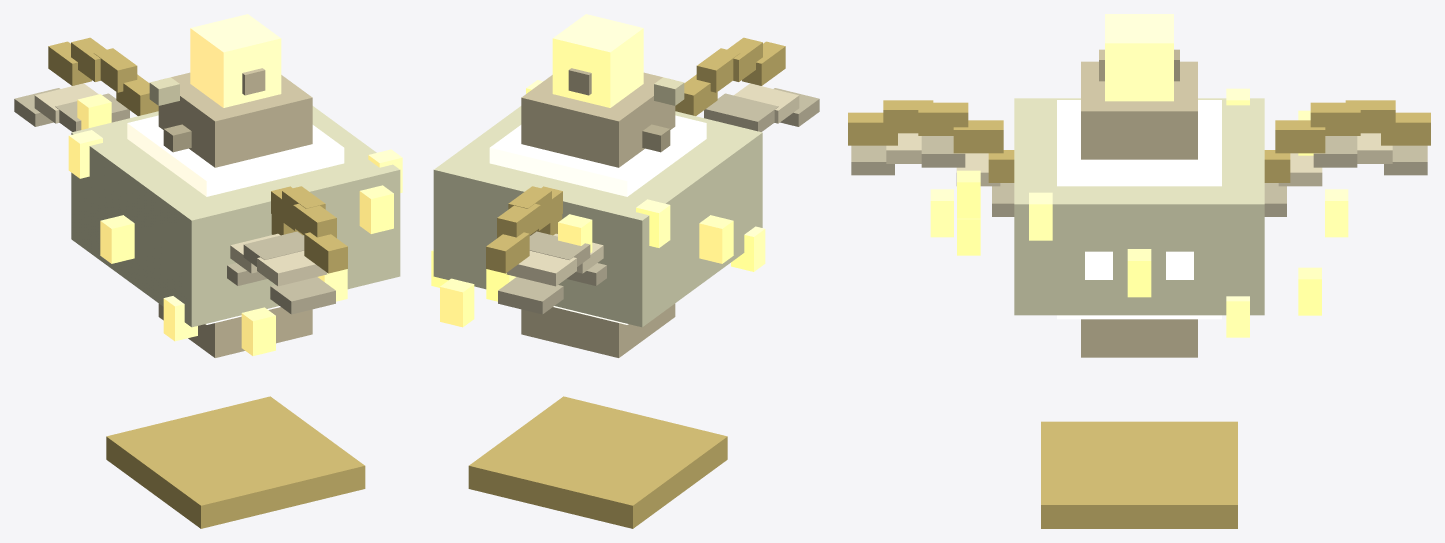
Rendered from pure-creation-elemental.glb.
3 views of the same model, side by side, from view 1: azimuth 30°, elevation 25°; view 2: azimuth 150°, elevation 25°; view 3: azimuth 270°, elevation 25° (orthographic). The views are drawn at different scales.
Parts seen in each view (by area): view 1: Body, Pedestal, Fins, Runes, Crown, Core, Trim, Scales; view 2: Body, Pedestal, Fins, Runes, Core, Crown, Trim, Scales; view 3: Body, Fins, Pedestal, Runes, Core, Crown, Eyes.
Part boxes in pixels (x1,y1,x2,y2): Body: (71,72,400,357); Pedestal: (106,396,365,528); Fins: (14,37,347,314); Runes: (68,94,402,355); Crown: (190,14,281,107); Core: (127,115,344,324); Trim: (149,77,191,152); Scales: (242,68,265,95); Body: (433,72,762,357); Pedestal: (468,396,727,528); Fins: (486,37,819,314); Runes: (431,80,765,327); Core: (489,115,706,324); Crown: (552,14,643,107); Trim: (642,77,684,152); Scales: (568,68,591,95); Body: (1014,61,1264,357); Fins: (848,100,1430,216); Pedestal: (1041,421,1237,528); Runes: (930,88,1348,337); Core: (1057,100,1221,319); Crown: (1105,14,1173,101); Eyes: (1085,251,1193,279).
Size of the model in its own units: 2.92 by 4.75 by 5.47.
